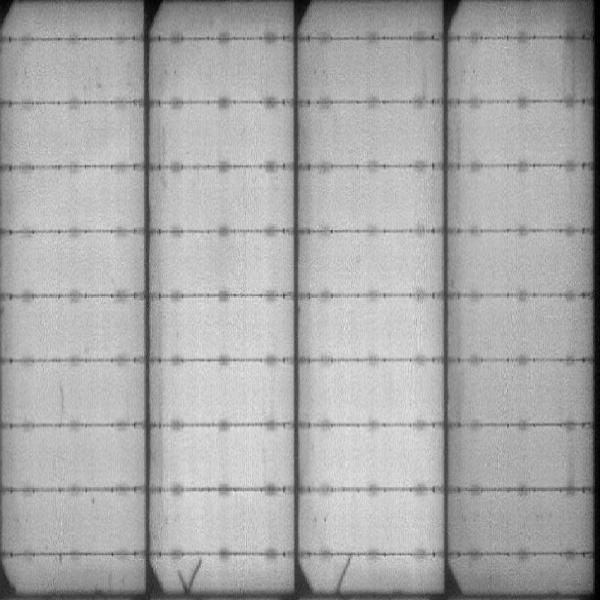scratch: (173, 560, 206, 591), (335, 558, 352, 592)
